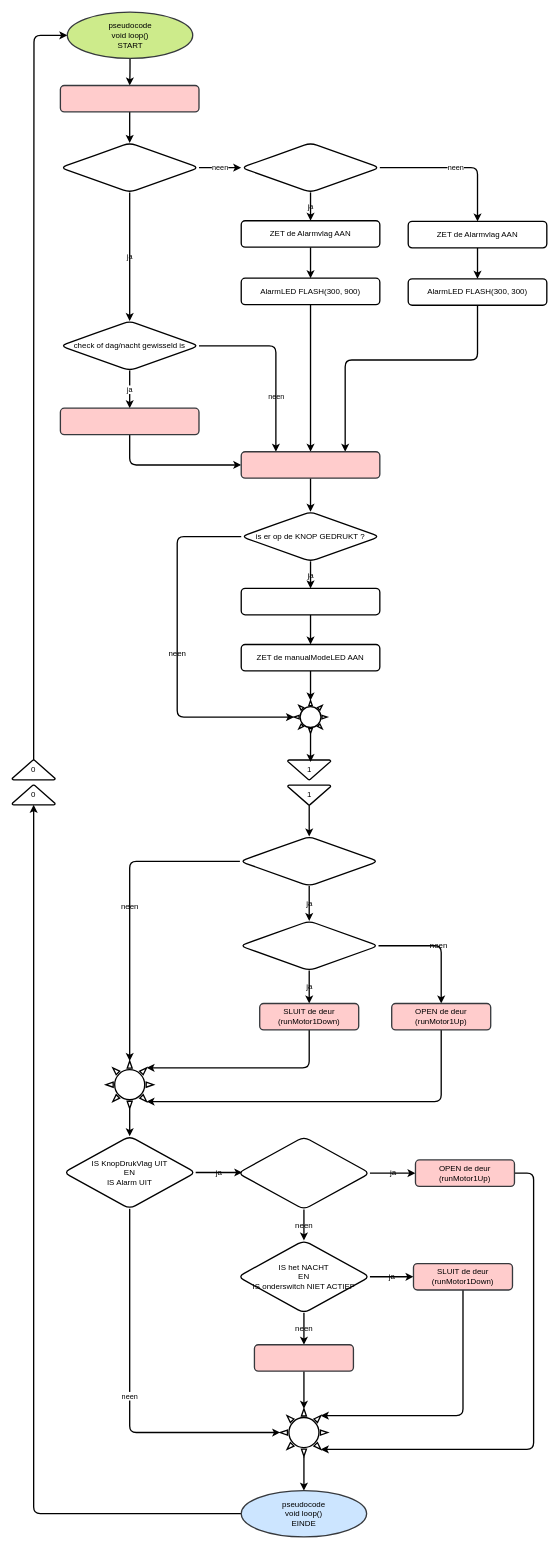
Some shapes in this 558 by 1548 pixel diagram are drawn without their labels. The shapes that lost their labels are listed below. From the top down, each one's centre as x and y in pixels, then its label:
At [129,98]: "LEES de klok".
At [129,167]: "retourneert de klok een TIJDSWAARDE ?".
At [310,167]: "is de KLOK GESTOPT ?".
At [129,421]: "reset naar automatische modus".
At [310,464]: "UPDATE de Bounce instance (moet iedere loop gebeuren)".
At [310,601]: "ZET de KnopDrukVlag AAN".
At [309,861]: "IS de KnopDrukVlag AAN ?".
At [309,945]: "is de BOVEN-schakelaar ACTIEF ?".
At [303,1173]: "IS het DAG EN IS bovenswitch NIET ACTIEF".
At [303,1357]: "STOP de motor (runMotor1Stop)".
